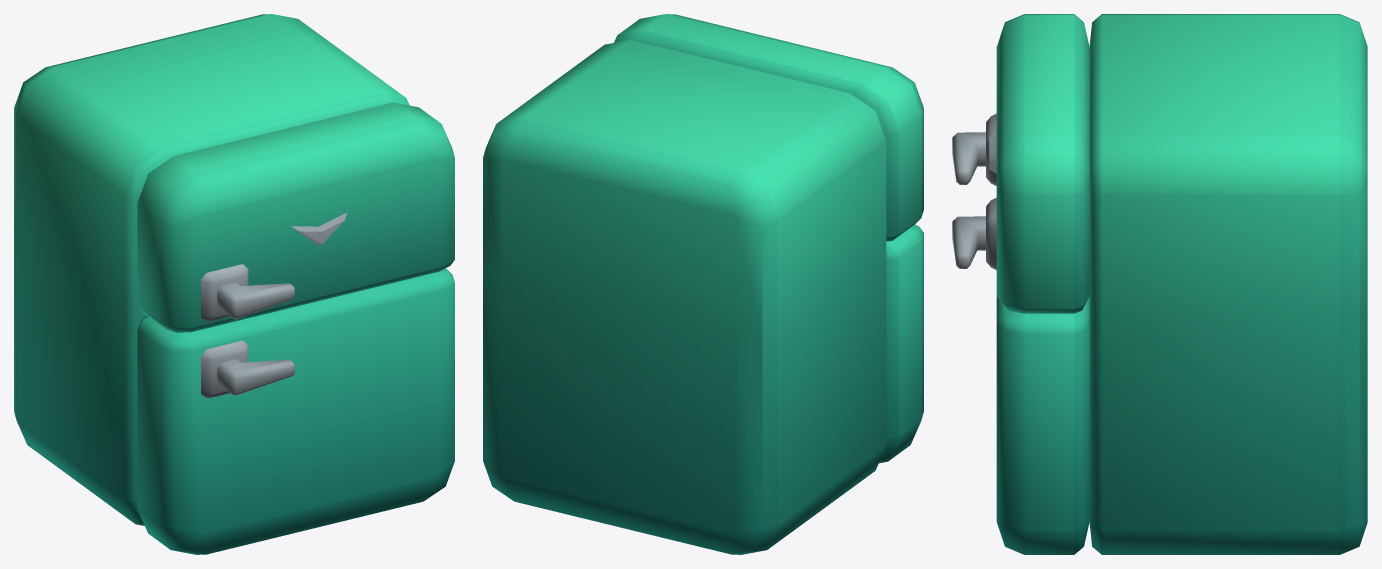
File: fridge_A_decorated.fbx
3 renders of one model, left to right at view 1: azimuth 30°, elevation 25°; view 2: azimuth 150°, elevation 25°; view 3: azimuth 270°, elevation 25°, orthographic. The views are drawn at different scales.
Parts seen in each view (by area): view 1: fridge_A_decorated, fridge_A_decorated_door_bottom, fridge_A_decorated_door_top; view 2: fridge_A_decorated, fridge_A_decorated_door_top, fridge_A_decorated_door_bottom; view 3: fridge_A_decorated, fridge_A_decorated_door_top, fridge_A_decorated_door_bottom.
Boxes of the visible parts, x1,y1,x2,y2 form: fridge_A_decorated: (14, 14, 409, 525); fridge_A_decorated_door_bottom: (137, 268, 454, 554); fridge_A_decorated_door_top: (137, 102, 454, 332); fridge_A_decorated: (483, 39, 886, 554); fridge_A_decorated_door_top: (614, 14, 923, 241); fridge_A_decorated_door_bottom: (879, 224, 923, 463); fridge_A_decorated: (1089, 14, 1367, 554); fridge_A_decorated_door_top: (952, 14, 1089, 313); fridge_A_decorated_door_bottom: (952, 197, 1089, 554).
Size of the model in its own units: 2 by 2.5 by 2.24.
